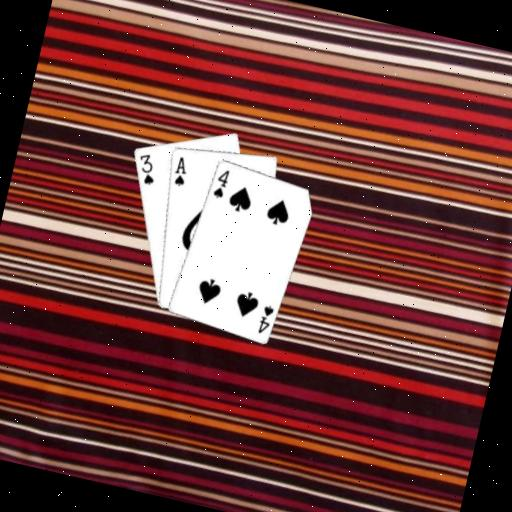3S: (131, 149, 162, 187)
4S: (209, 165, 232, 201), (254, 300, 277, 336)
AS: (168, 152, 192, 188)
